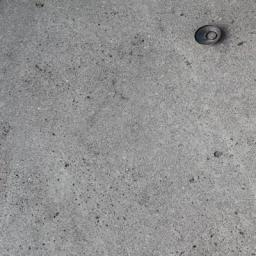FOD: (192, 23, 226, 49)
